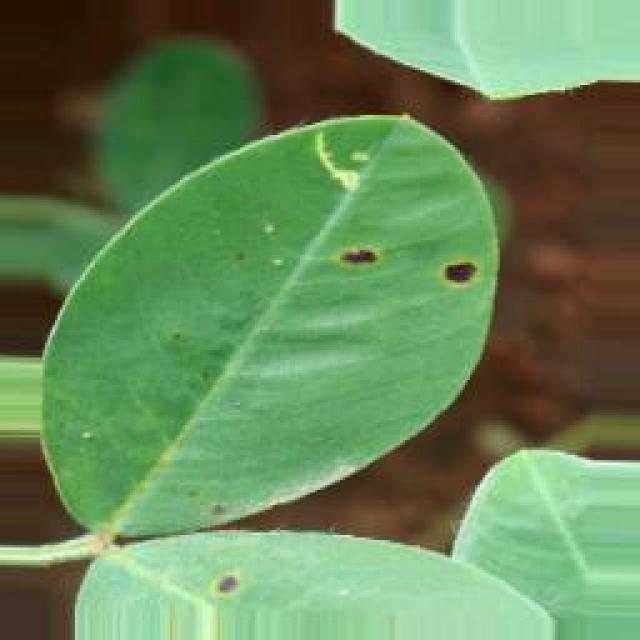Sigatoka: (413, 226, 494, 334), (325, 223, 383, 302), (198, 558, 256, 616)
